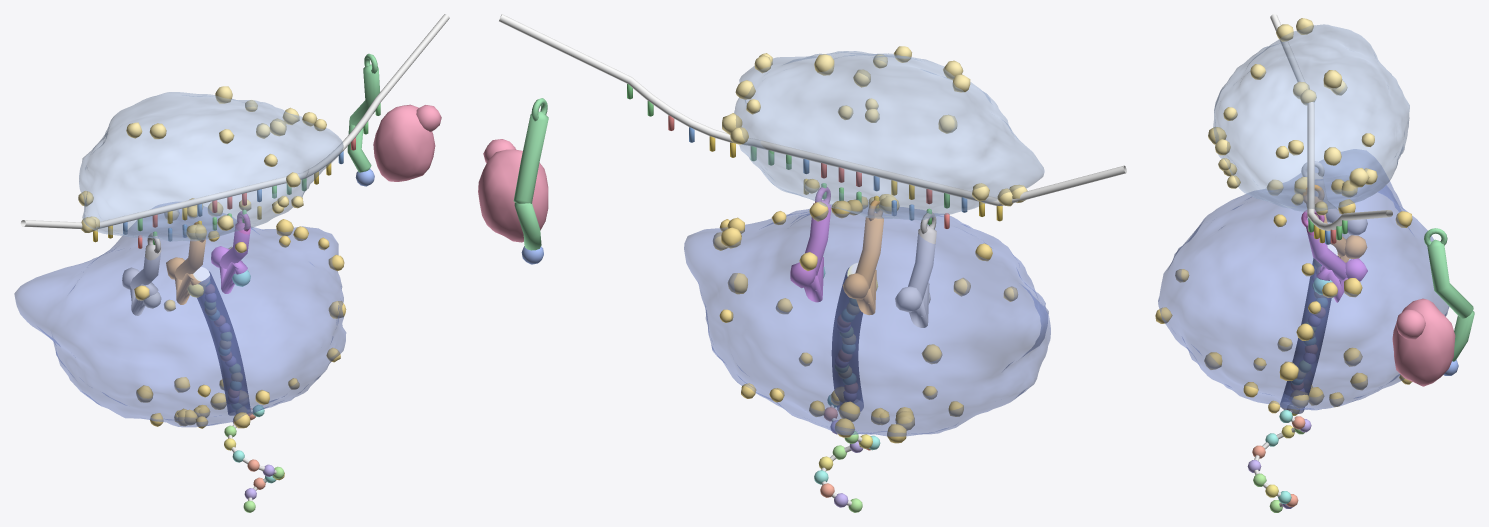
The model's file is ribosome.glb.
3 views of the same model, side by side, from view 1: azimuth 30°, elevation 25°; view 2: azimuth 150°, elevation 25°; view 3: azimuth 270°, elevation 25° (orthographic). The views are drawn at different scales.
Visible parts, largest first — view 1: Large Subunit (60S), Small Subunit (40S), Large Subunit Proteins, eEF1A (Elongation Factor), Small Subunit Proteins, mRNA Backbone, Exit Tunnel, tRNA A-site (Phe), Incoming tRNA (Lys), tRNA E-site (Met), tRNA P-site (Ala), Amino Acids 5 (+3 smaller); view 2: Large Subunit (60S), Small Subunit (40S), Large Subunit Proteins, mRNA Backbone, Small Subunit Proteins, eEF1A (Elongation Factor), Exit Tunnel, Incoming tRNA (Lys), tRNA E-site (Met), tRNA P-site (Ala), tRNA A-site (Phe); view 3: Large Subunit (60S), Small Subunit (40S), Large Subunit Proteins, eEF1A (Elongation Factor), Small Subunit Proteins, Exit Tunnel, Incoming tRNA (Lys), mRNA Backbone, tRNA A-site (Phe), tRNA E-site (Met), tRNA P-site (Ala), Amino Acids 3 (+4 smaller).
Boxes of the visible parts, bbox=[...] form: Large Subunit (60S): bbox=[14, 202, 346, 427]; Small Subunit (40S): bbox=[79, 92, 343, 241]; Large Subunit Proteins: bbox=[134, 198, 346, 428]; eEF1A (Elongation Factor): bbox=[373, 104, 441, 181]; Small Subunit Proteins: bbox=[78, 86, 326, 241]; mRNA Backbone: bbox=[20, 14, 449, 229]; Exit Tunnel: bbox=[197, 271, 250, 415]; tRNA A-site (Phe): bbox=[211, 211, 250, 293]; Incoming tRNA (Lys): bbox=[347, 53, 380, 172]; tRNA E-site (Met): bbox=[122, 233, 161, 315]; tRNA P-site (Ala): bbox=[166, 222, 205, 304]; Amino Acids 5: bbox=[204, 301, 284, 512]; Large Subunit (60S): bbox=[684, 202, 1050, 436]; Small Subunit (40S): bbox=[734, 51, 1044, 220]; Large Subunit Proteins: bbox=[713, 196, 1017, 443]; mRNA Backbone: bbox=[498, 14, 1126, 206]; Small Subunit Proteins: bbox=[722, 46, 1027, 213]; eEF1A (Elongation Factor): bbox=[478, 139, 548, 242]; Exit Tunnel: bbox=[831, 267, 863, 411]; Incoming tRNA (Lys): bbox=[513, 98, 548, 250]; tRNA E-site (Met): bbox=[895, 212, 936, 327]; tRNA P-site (Ala): bbox=[843, 200, 883, 315]; tRNA A-site (Phe): bbox=[790, 187, 831, 302]; Large Subunit (60S): bbox=[1158, 149, 1449, 410]; Small Subunit (40S): bbox=[1213, 24, 1409, 212]; Large Subunit Proteins: bbox=[1155, 179, 1412, 413]; eEF1A (Elongation Factor): bbox=[1392, 298, 1455, 386]; Small Subunit Proteins: bbox=[1208, 18, 1377, 215]; Exit Tunnel: bbox=[1280, 256, 1338, 413]; Incoming tRNA (Lys): bbox=[1424, 228, 1474, 361]; mRNA Backbone: bbox=[1270, 14, 1392, 231]; tRNA A-site (Phe): bbox=[1301, 209, 1367, 302]; tRNA E-site (Met): bbox=[1301, 161, 1367, 239]; tRNA P-site (Ala): bbox=[1302, 184, 1367, 262]; Amino Acids 3: bbox=[1252, 266, 1325, 506].
Bounding box in the file's own units: 9.67 × 7.91 × 5.12.
